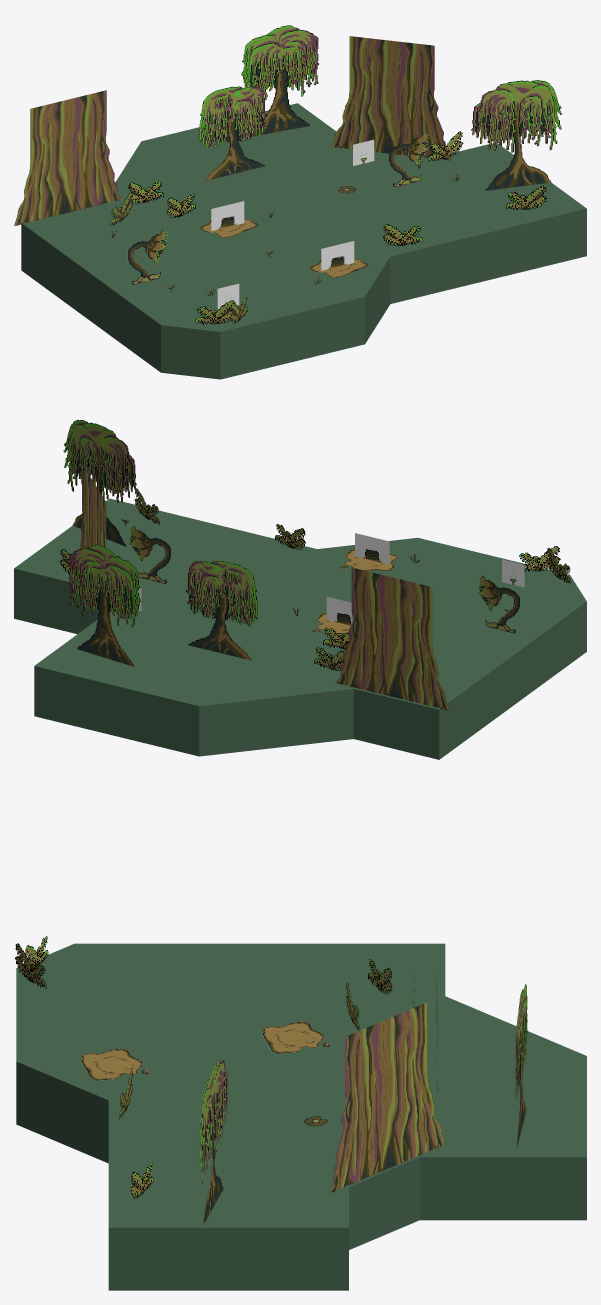
Rendered from Nivel7.fbx.
The picture shows the model from 3 angles, top to bottom: view 1: azimuth 30°, elevation 25°; view 2: azimuth 150°, elevation 25°; view 3: azimuth 270°, elevation 25°; orthographic projection. The views are drawn at different scales.
Visible parts, largest first — view 1: Base.007, Sequoia.005, Sequoia.006, Arbol 1.004, Arbol 2.004, Arbol 3.004, Planta carnivora 9.004, Planta carnivora 9.005, Barril 1.015, Barril 1.014, Helecho.059, Helecho.066 (+6 smaller); view 2: Base.007, Sequoia.006, Arbol 2.004, Arbol 3.004, Arbol 1.004, Sequoia.005, Planta carnivora 9.005, Planta carnivora 9.004, Barril 1.014, Barril 1.015, Barro 1.014, Helecho.065 (+3 smaller); view 3: Base.007, Sequoia.005, Arbol 1.004, Barro 1.015, Barro 1.014, Arbol 2.004.
Boxes of the visible parts, box(x1,y1,x2,y2) form: Base.007: box(21, 103, 586, 379); Sequoia.005: box(332, 36, 451, 160); Sequoia.006: box(14, 90, 121, 226); Arbol 1.004: box(471, 80, 562, 190); Arbol 2.004: box(241, 25, 319, 136); Arbol 3.004: box(199, 86, 266, 180); Planta carnivora 9.004: box(389, 132, 428, 186); Planta carnivora 9.005: box(127, 230, 167, 284); Barril 1.015: box(211, 201, 244, 232); Barril 1.014: box(321, 241, 354, 272); Helecho.059: box(506, 185, 546, 209); Helecho.066: box(383, 224, 422, 246); Base.007: box(14, 498, 586, 759); Sequoia.006: box(335, 567, 449, 711); Arbol 2.004: box(68, 544, 141, 666); Arbol 3.004: box(185, 561, 258, 660); Arbol 1.004: box(63, 419, 136, 546); Sequoia.005: box(80, 464, 110, 624); Planta carnivora 9.005: box(478, 576, 520, 633); Planta carnivora 9.004: box(129, 526, 171, 583); Barril 1.014: box(355, 533, 389, 564); Barril 1.015: box(326, 596, 352, 625); Barro 1.014: box(340, 549, 397, 570); Helecho.065: box(519, 546, 560, 571); Base.007: box(16, 943, 586, 1290); Sequoia.005: box(328, 1002, 444, 1193); Arbol 1.004: box(199, 1060, 227, 1226); Barro 1.015: box(263, 1021, 330, 1053); Barro 1.014: box(81, 1048, 148, 1080); Arbol 2.004: box(515, 984, 527, 1146).
Size of the model in its own units: 2011 by 675 by 1647.
34 materials, 33 textured.
